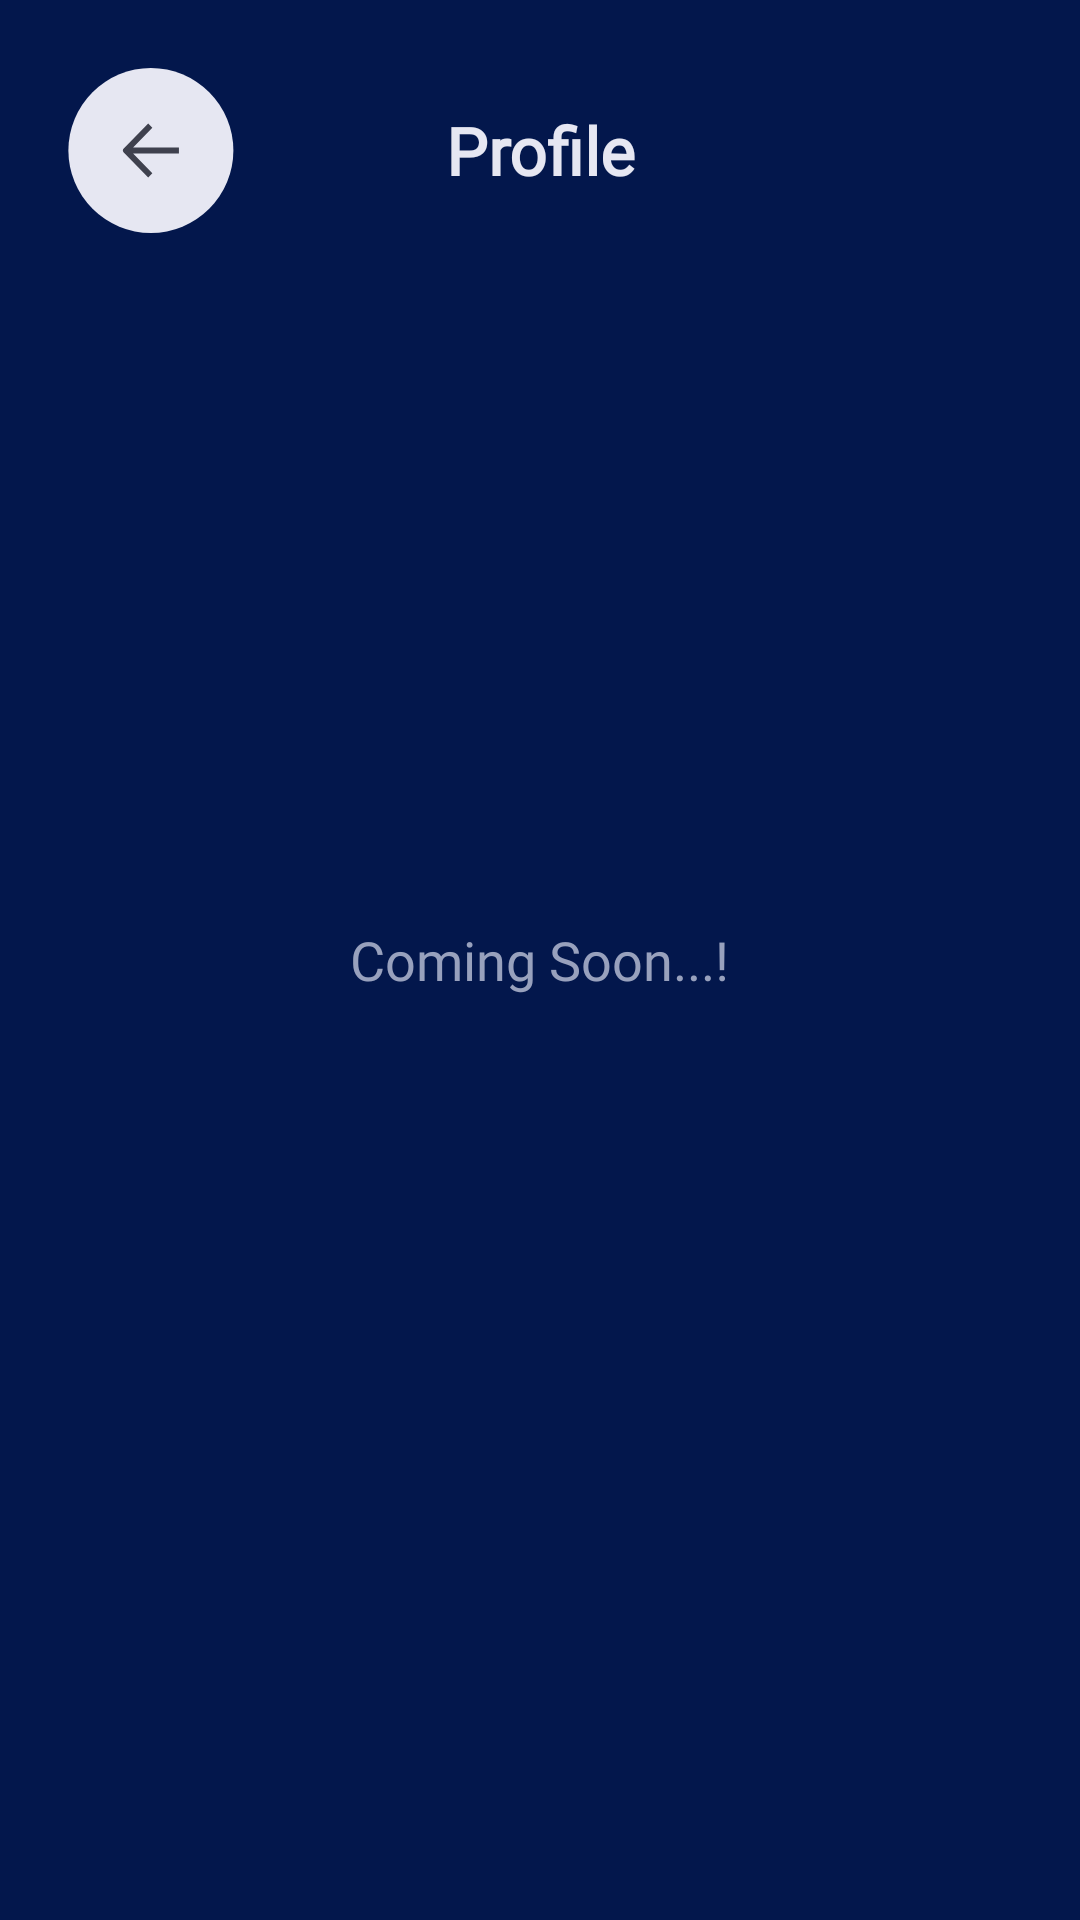

Icons on this 1080w x 1920h Android screen, each with the point to tap as (x,y):
back: (151,150)
